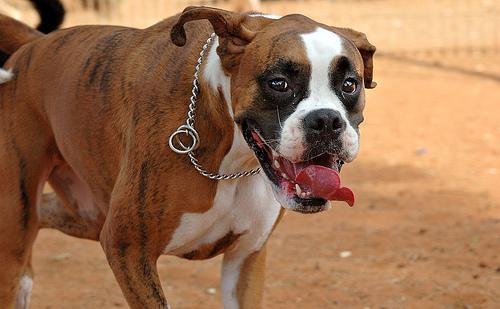dog-boxer: (168, 5, 376, 211)
